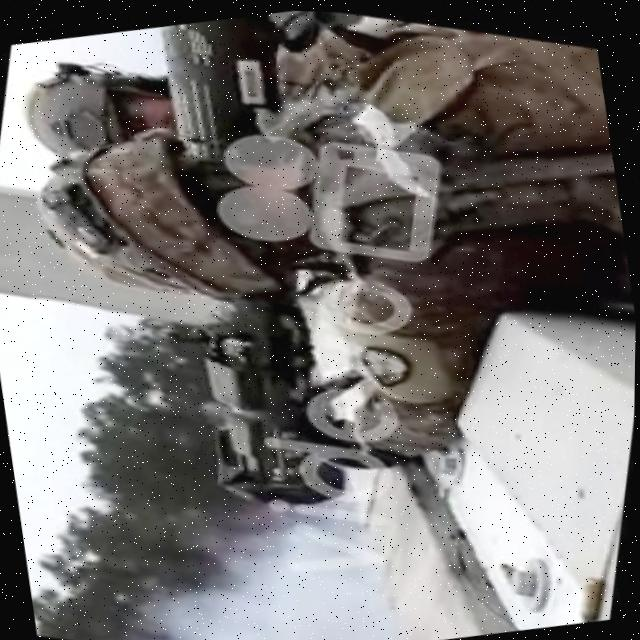rocket: (31, 1, 445, 546)
